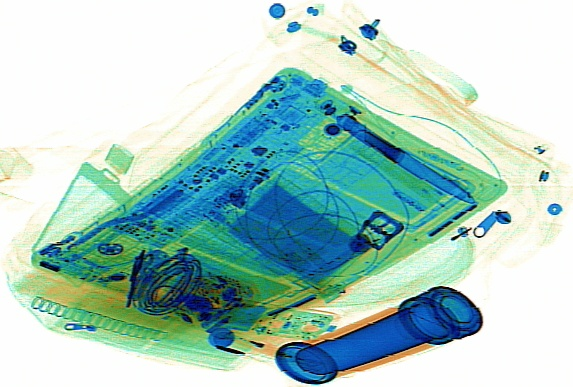lighter: (220, 330, 302, 363)
